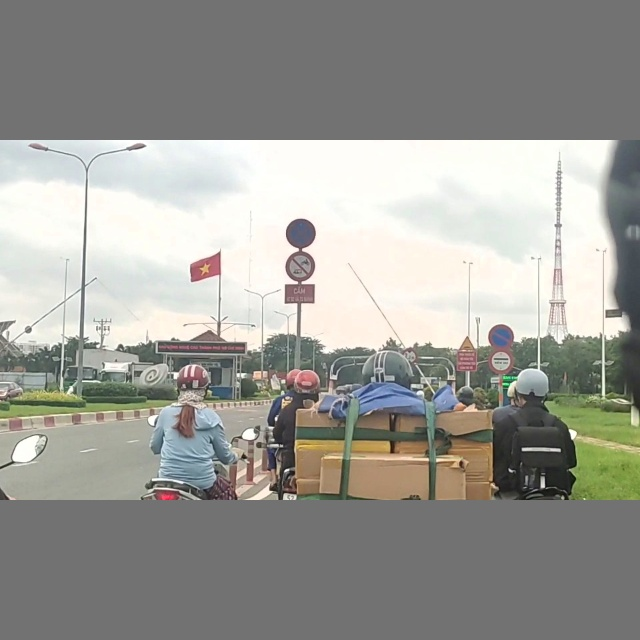P.111: (286, 251, 317, 281)
P.117*: (403, 349, 417, 364)
P.129: (489, 348, 513, 373)
P.130: (285, 219, 317, 247)
P.131a: (487, 324, 513, 348)
W.221b: (458, 336, 475, 350)
